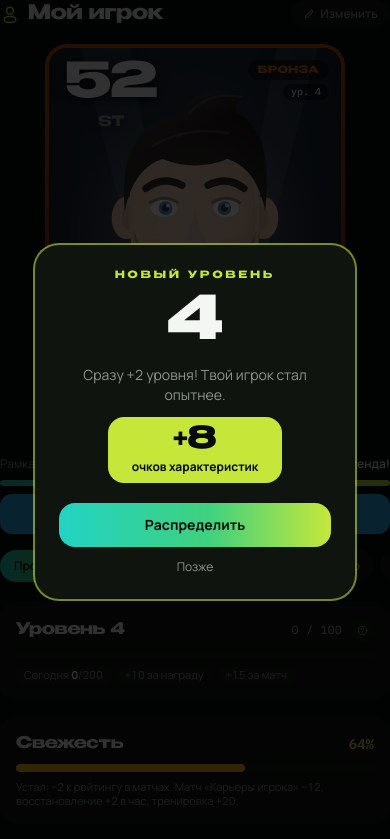
Test: MyPlayerPage › celebrates a new level once and acknowledges it
Step 1. Click the button "Распределить" → x=195, y=525, box [59, 503, 331, 547]
(page scrolled)
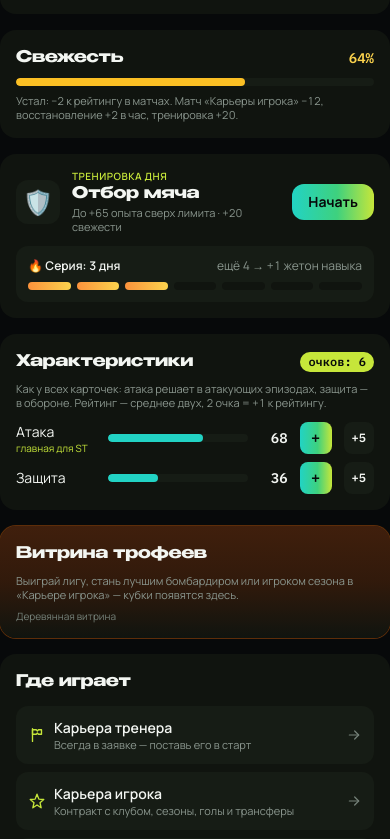
Check: the text "Новый уровень" is gone
